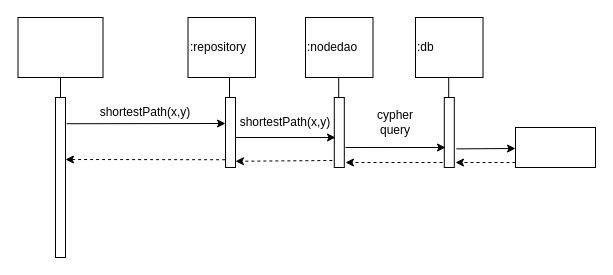
Image size: 613x275. Some labels were removed from this diagram. The shapes that lost their labels are listed below. From the top down, each one's centre as x and y in pixels, then its label:
At point (60, 47): ":board-service (HTTP)".
At point (555, 147): "List<Integer>".
